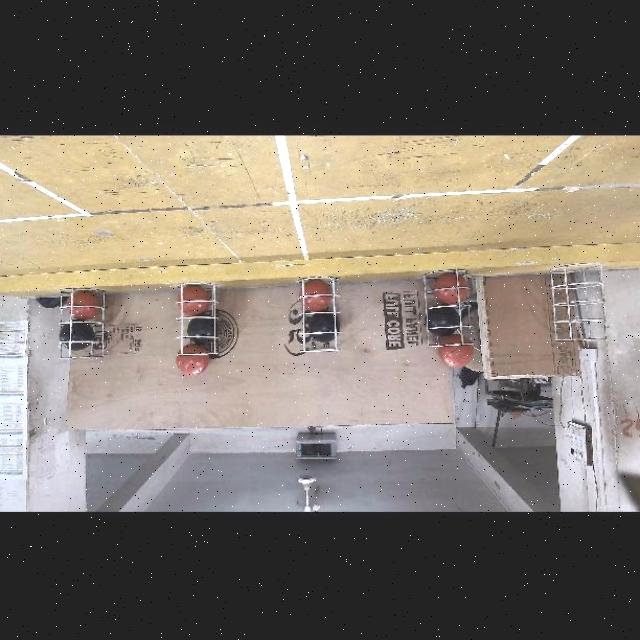P: (426, 306, 460, 338), (60, 321, 94, 351), (308, 313, 340, 343), (188, 315, 220, 345)
R: (438, 335, 474, 369), (176, 344, 209, 377), (300, 280, 332, 312), (436, 273, 468, 305), (68, 292, 100, 322), (178, 287, 208, 317)
S: (549, 260, 611, 348), (420, 266, 478, 352), (56, 283, 110, 362), (170, 279, 222, 357), (298, 277, 344, 355)
